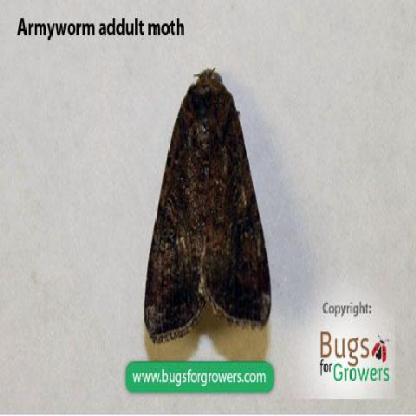armyworm: (137, 68, 275, 344)
